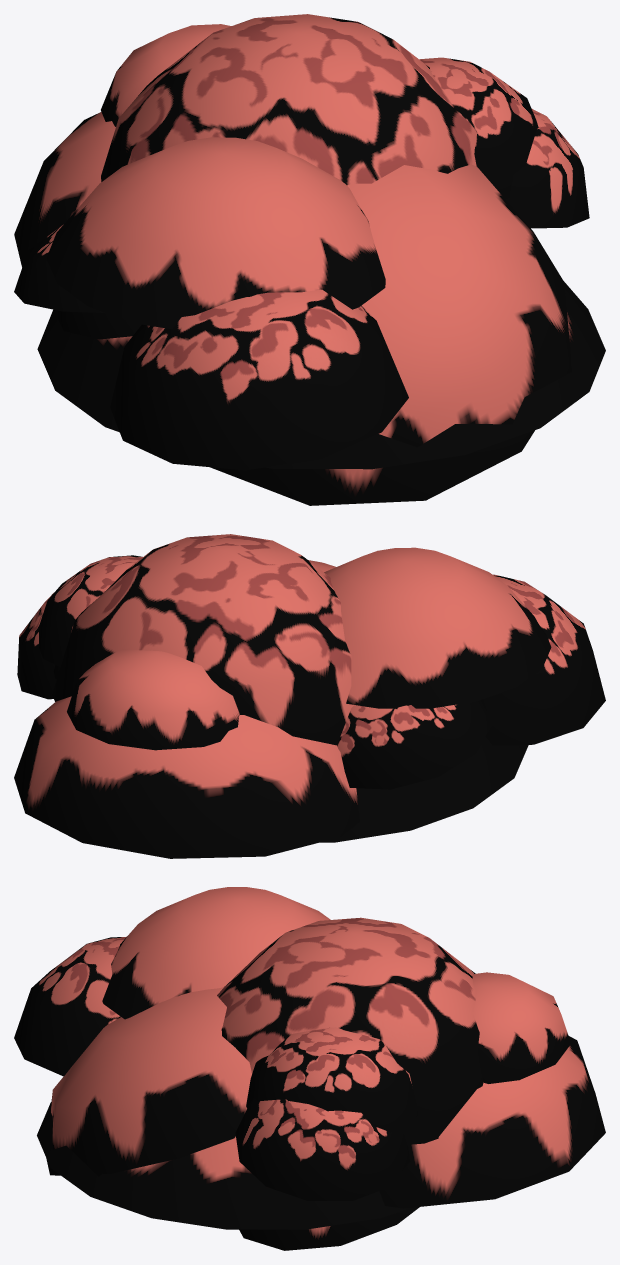
File: SM_LeafTree04.fbx
The picture shows the model from 3 angles, top to bottom: view 1: azimuth 30°, elevation 25°; view 2: azimuth 150°, elevation 25°; view 3: azimuth 270°, elevation 25°; orthographic projection. The views are drawn at different scales.
Parts seen in each view (by area): view 1: Sphere024; view 2: Sphere024; view 3: Sphere024.
Boxes of the visible parts, x1,y1,x2,y2 form: Sphere024: (14,14,605,505); Sphere024: (14,534,605,858); Sphere024: (14,887,605,1250).
Size of the model in its own units: 1314 by 741 by 1501.
